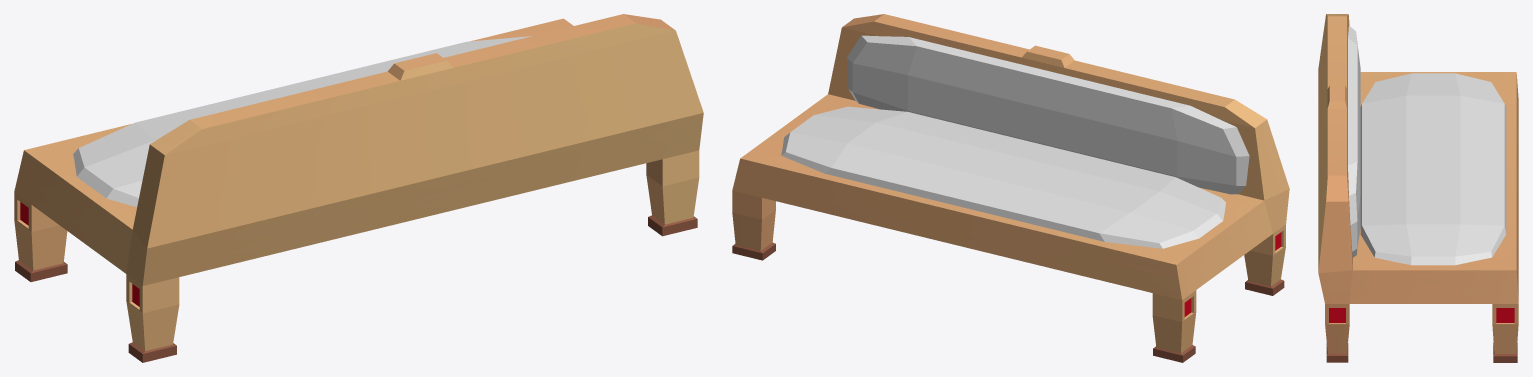
The model's file is Prop_Sofa_Modern02.fbx.
3 views of the same model, side by side, from view 1: azimuth 30°, elevation 25°; view 2: azimuth 150°, elevation 25°; view 3: azimuth 270°, elevation 25° (orthographic). The views are drawn at different scales.
Visible parts, largest first — view 1: Sofa_Outdoor_Orange; view 2: Sofa_Outdoor_Orange; view 3: Sofa_Outdoor_Orange.
Boxes of the visible parts, x1,y1,x2,y2 form: Sofa_Outdoor_Orange: (14, 14, 703, 362); Sofa_Outdoor_Orange: (732, 14, 1289, 362); Sofa_Outdoor_Orange: (1318, 14, 1518, 362).
Size of the model in its own units: 134 by 52.01 by 55.38.
